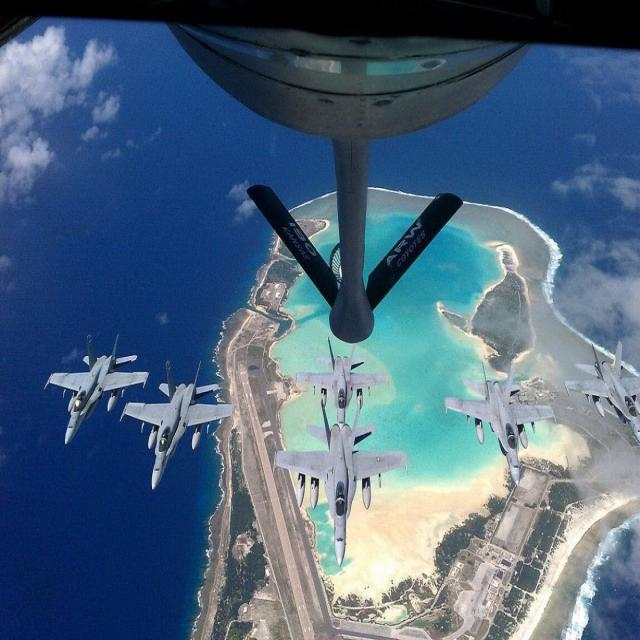MIL_Plane: (272, 395, 408, 567), (119, 358, 236, 492), (443, 359, 558, 487), (16, 332, 122, 446), (294, 336, 390, 430), (563, 340, 640, 444)
